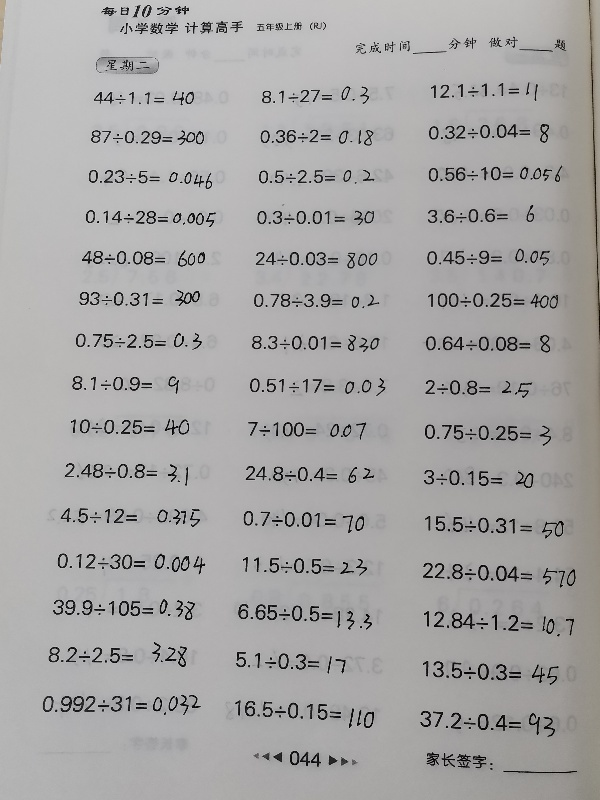equation: (39, 691, 205, 719), (231, 697, 378, 727), (51, 503, 212, 530), (419, 561, 579, 588), (417, 705, 559, 735), (233, 600, 376, 629), (420, 609, 577, 635), (53, 549, 208, 575), (49, 594, 198, 621), (420, 513, 567, 540), (45, 643, 197, 669), (420, 421, 555, 449), (418, 659, 562, 685), (62, 457, 192, 485), (246, 375, 390, 400), (425, 120, 554, 147), (422, 331, 555, 357), (238, 553, 370, 579), (239, 507, 368, 533), (71, 329, 205, 354), (424, 288, 562, 312), (422, 244, 553, 269), (247, 330, 383, 354), (79, 246, 209, 271), (425, 163, 566, 186), (242, 462, 377, 486), (252, 247, 381, 272), (81, 206, 219, 229), (84, 166, 216, 190), (423, 204, 549, 229), (244, 418, 369, 443), (68, 372, 193, 397), (75, 286, 203, 310), (67, 415, 194, 439), (232, 649, 349, 675), (426, 77, 541, 103), (250, 290, 383, 312), (257, 126, 378, 150), (258, 83, 373, 108), (421, 375, 535, 400), (420, 466, 537, 490), (86, 126, 208, 149), (253, 207, 379, 229), (255, 166, 378, 188), (91, 87, 199, 109)
